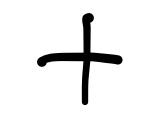plus: (31, 16, 122, 104)
